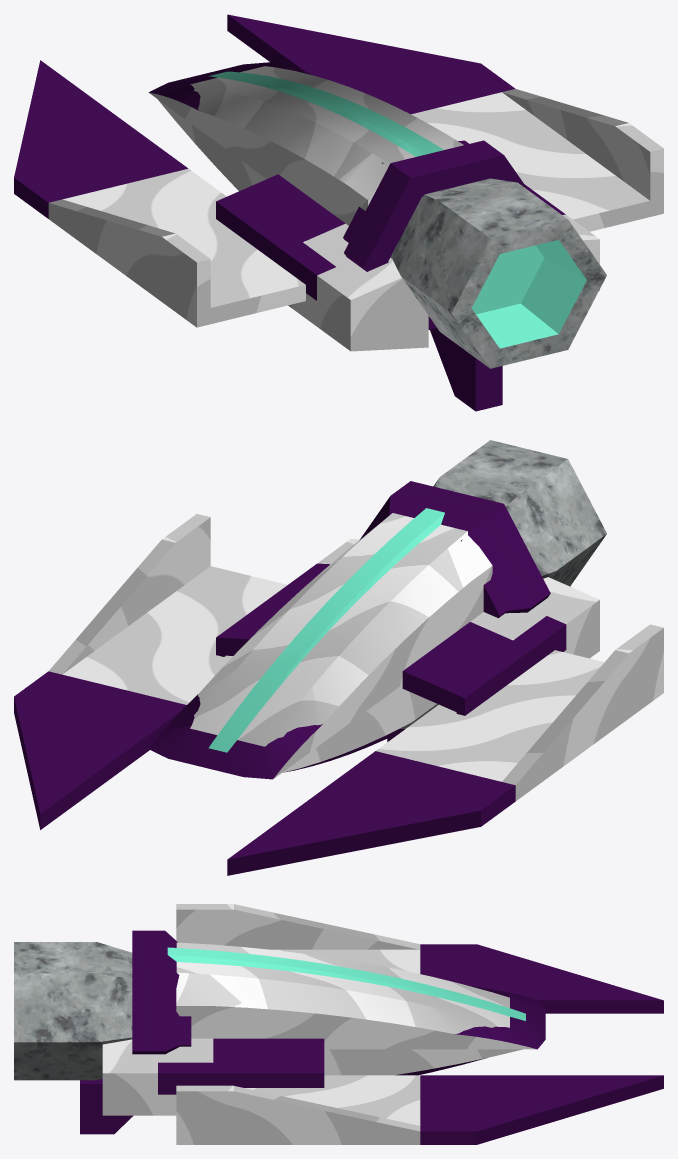
Rendered from WaveForm.obj.
The picture shows the model from 3 angles, top to bottom: view 1: azimuth 30°, elevation 25°; view 2: azimuth 150°, elevation 25°; view 3: azimuth 270°, elevation 25°; orthographic projection. The views are drawn at different scales.
Bounding box in the file's own units: 3 × 1.34 × 4.4.
Materials: 6 (3 with a texture image).
